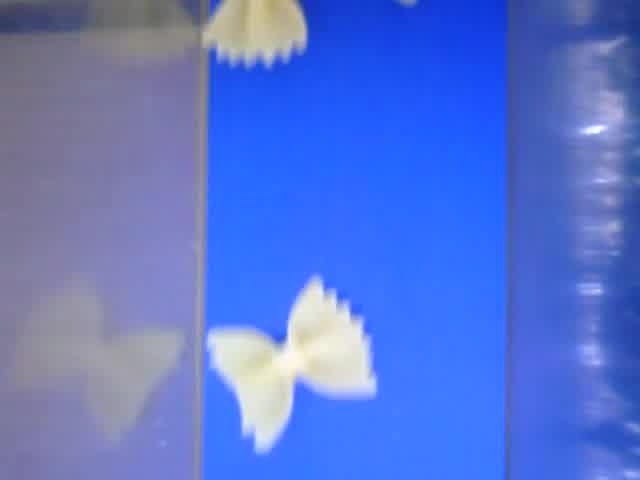farfalle: (206, 274, 382, 454), (203, 1, 309, 70)
